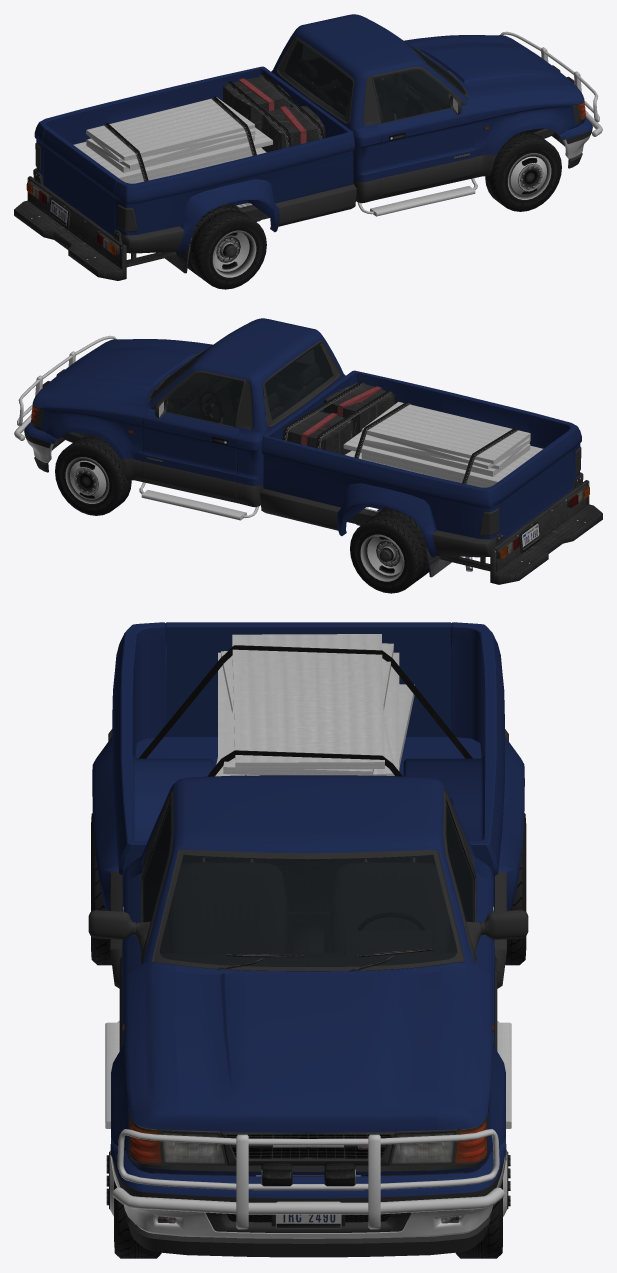
Rendered from lightbody_90_md_pickup_-_low_poly_model.glb.
3 views of the same model, one above another, from view 1: azimuth 30°, elevation 25°; view 2: azimuth 150°, elevation 25°; view 3: azimuth 270°, elevation 25° (orthographic). The views are drawn at different scales.
Visible parts, largest first — view 1: UTLTRUCK90_Truckbed_UTLTRUCK90_Bodymat_0, UTLTRUCK90_Truckbed_Trim_UCB_BOTTOM_0, UTLTRUCK90_Body_UTLTRUCK90_Bodymat_0, UTLTRUCK90_bottom_UCB_BOTTOM_0, UTLTRUCK90_Hood_UTLTRUCK90_Bodymat_0, UTLTRUCK90_Interior_UCB_Interiors_1_0, UTLTRUCK90_WheelStock_RR_RB1c_Tire_1k_0, UTLTRUCK90_Bumper_rear_UCB_BOTTOM_0, UTLTRUCK90_WheelStock_FR_RB1c_Tire_1k_0, UTLTRUCK90_Glass_Passenger_UCB_Lights_and_Glass_Transperent_, UTLTRUCK90_Glass_Rear_UCB_Lights_and_Glass_Transperent_0, UTLTRUCK90_Bullbar_B_UCB_BOTTOM_0 (+3 smaller); view 2: UTLTRUCK90_Truckbed_UTLTRUCK90_Bodymat_0, UTLTRUCK90_Truckbed_Trim_UCB_BOTTOM_0, UTLTRUCK90_Body_UTLTRUCK90_Bodymat_0, UTLTRUCK90_bottom_UCB_BOTTOM_0, UTLTRUCK90_Hood_UTLTRUCK90_Bodymat_0, UTLTRUCK90_WheelStock_RL_RB1c_Tire_1k_0, UTLTRUCK90_Interior_UCB_Interiors_1_0, UTLTRUCK90_Bumper_rear_UCB_BOTTOM_0, UTLTRUCK90_WheelStock_FL_RB1c_Tire_1k_0, UTLTRUCK90_Glass_Driver_UCB_Lights_and_Glass_Transperent_0, UTLTRUCK90_Glass_Rear_UCB_Lights_and_Glass_Transperent_0, UTLTRUCK90_Bullbar_B_UCB_BOTTOM_0 (+3 smaller); view 3: UTLTRUCK90_Body_UTLTRUCK90_Bodymat_0, UTLTRUCK90_Truckbed_UTLTRUCK90_Bodymat_0, UTLTRUCK90_Hood_UTLTRUCK90_Bodymat_0, UTLTRUCK90_Interior_UCB_Interiors_1_0, UTLTRUCK90_Truckbed_Trim_UCB_BOTTOM_0, UTLTRUCK90_Windshield_UCB_Lights_and_Glass_Transperent_0, UTLTRUCK90_bottom_UCB_BOTTOM_0, UTLTRUCK90_Bumper_front_inner_UCB_BOTTOM_0, UTLTRUCK90_Bullbar_B_UCB_BOTTOM_0, UTLTRUCK90_Bumper_Front_UTLTRUCK90_Bodymat_0, UTLTRUCK90_Headlights_Glass_UCB_Lights_and_Glass_Transperent, UTLTRUCK90_Headlights_UCB_Lights_and_Glass_0 (+8 smaller).
Boxes of the visible parts, bbox=[...] form: UTLTRUCK90_Truckbed_UTLTRUCK90_Bodymat_0: bbox=[34, 66, 355, 252]; UTLTRUCK90_Truckbed_Trim_UCB_BOTTOM_0: bbox=[33, 73, 356, 267]; UTLTRUCK90_Body_UTLTRUCK90_Bodymat_0: bbox=[271, 14, 584, 181]; UTLTRUCK90_bottom_UCB_BOTTOM_0: bbox=[165, 37, 585, 273]; UTLTRUCK90_Hood_UTLTRUCK90_Bodymat_0: bbox=[408, 37, 575, 92]; UTLTRUCK90_Interior_UCB_Interiors_1_0: bbox=[284, 36, 464, 121]; UTLTRUCK90_WheelStock_RR_RB1c_Tire_1k_0: bbox=[187, 203, 266, 289]; UTLTRUCK90_Bumper_rear_UCB_BOTTOM_0: bbox=[14, 172, 126, 280]; UTLTRUCK90_WheelStock_FR_RB1c_Tire_1k_0: bbox=[485, 132, 561, 211]; UTLTRUCK90_Glass_Passenger_UCB_Lights_and_Glass_Transperent_: bbox=[373, 70, 449, 122]; UTLTRUCK90_Glass_Rear_UCB_Lights_and_Glass_Transperent_0: bbox=[284, 41, 351, 116]; UTLTRUCK90_Bullbar_B_UCB_BOTTOM_0: bbox=[500, 31, 602, 136]; UTLTRUCK90_Truckbed_UTLTRUCK90_Bodymat_0: bbox=[261, 370, 581, 556]; UTLTRUCK90_Truckbed_Trim_UCB_BOTTOM_0: bbox=[260, 381, 583, 571]; UTLTRUCK90_Body_UTLTRUCK90_Bodymat_0: bbox=[32, 318, 345, 485]; UTLTRUCK90_bottom_UCB_BOTTOM_0: bbox=[31, 340, 472, 577]; UTLTRUCK90_Hood_UTLTRUCK90_Bodymat_0: bbox=[41, 341, 208, 396]; UTLTRUCK90_WheelStock_RL_RB1c_Tire_1k_0: bbox=[350, 507, 428, 593]; UTLTRUCK90_Interior_UCB_Interiors_1_0: bbox=[152, 346, 331, 427]; UTLTRUCK90_Bumper_rear_UCB_BOTTOM_0: bbox=[490, 475, 602, 584]; UTLTRUCK90_WheelStock_FL_RB1c_Tire_1k_0: bbox=[55, 436, 131, 515]; UTLTRUCK90_Glass_Driver_UCB_Lights_and_Glass_Transperent_0: bbox=[167, 374, 243, 426]; UTLTRUCK90_Glass_Rear_UCB_Lights_and_Glass_Transperent_0: bbox=[265, 345, 332, 420]; UTLTRUCK90_Bullbar_B_UCB_BOTTOM_0: bbox=[14, 335, 116, 440]; UTLTRUCK90_Body_UTLTRUCK90_Bodymat_0: bbox=[111, 775, 505, 1175]; UTLTRUCK90_Truckbed_UTLTRUCK90_Bodymat_0: bbox=[92, 622, 524, 941]; UTLTRUCK90_Hood_UTLTRUCK90_Bodymat_0: bbox=[174, 971, 442, 1132]; UTLTRUCK90_Interior_UCB_Interiors_1_0: bbox=[145, 811, 471, 966]; UTLTRUCK90_Truckbed_Trim_UCB_BOTTOM_0: bbox=[108, 634, 508, 988]; UTLTRUCK90_Windshield_UCB_Lights_and_Glass_Transperent_0: bbox=[159, 854, 457, 966]; UTLTRUCK90_bottom_UCB_BOTTOM_0: bbox=[88, 787, 528, 1176]; UTLTRUCK90_Bumper_front_inner_UCB_BOTTOM_0: bbox=[110, 1155, 506, 1257]; UTLTRUCK90_Bullbar_B_UCB_BOTTOM_0: bbox=[112, 1129, 504, 1229]; UTLTRUCK90_Bumper_Front_UTLTRUCK90_Bodymat_0: bbox=[110, 1139, 506, 1198]; UTLTRUCK90_Headlights_Glass_UCB_Lights_and_Glass_Transperent: bbox=[130, 1120, 486, 1164]; UTLTRUCK90_Headlights_UCB_Lights_and_Glass_0: bbox=[162, 1132, 454, 1163].
Size of the model in its own units: 5.36 by 1.66 by 2.
8 materials, 7 textured.
